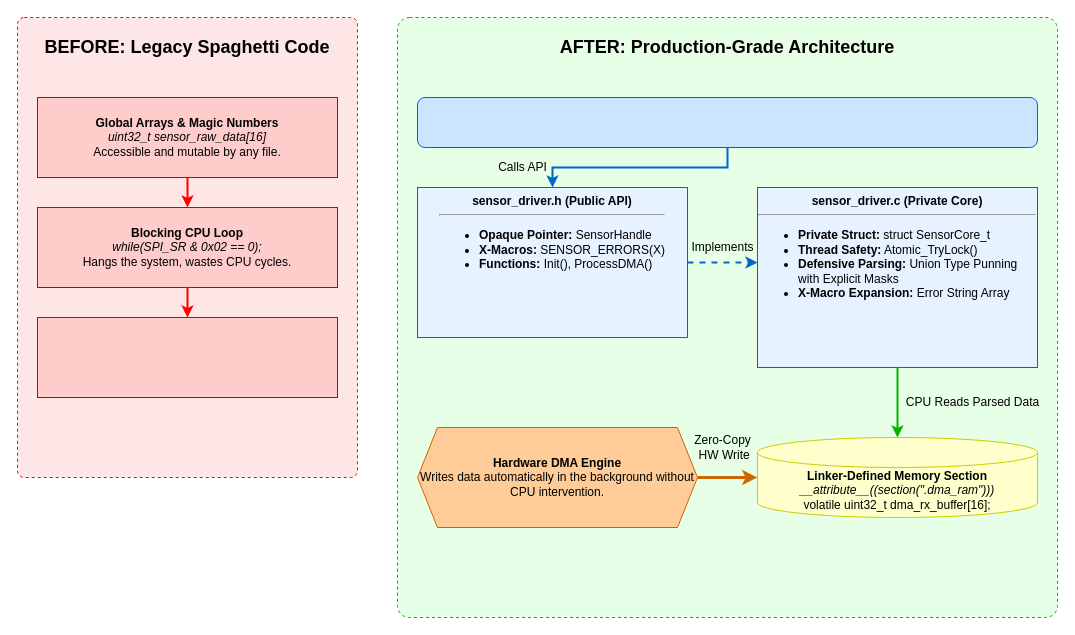
The diagram is 1075 pixels wide and 635 high, and some of its shapes have lost their labels. Here are the shapes that lost their labels. From the top down, the centre of each, then its label:
(727,122): Application Logic Has no idea how the hardware works.
(187,357): Non-Portable Bit-Fields Compiler-dependent padding & endianness issues.
